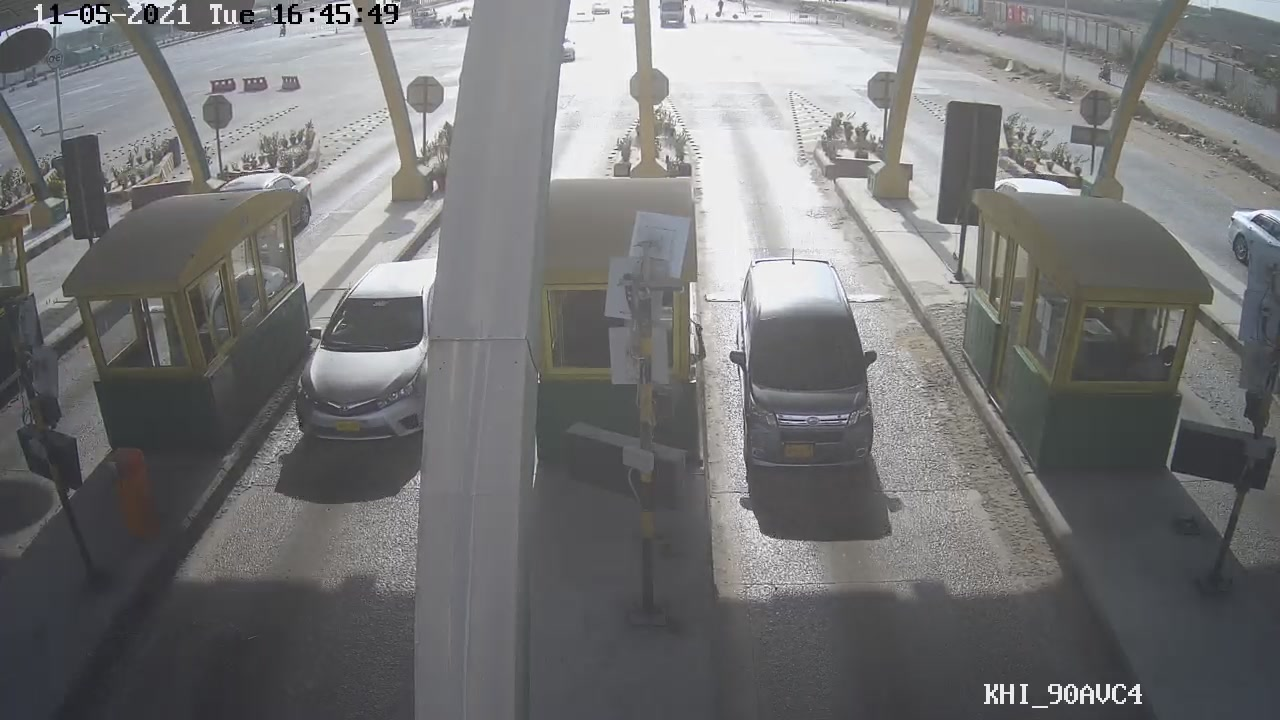F1: (723, 248, 891, 475)
